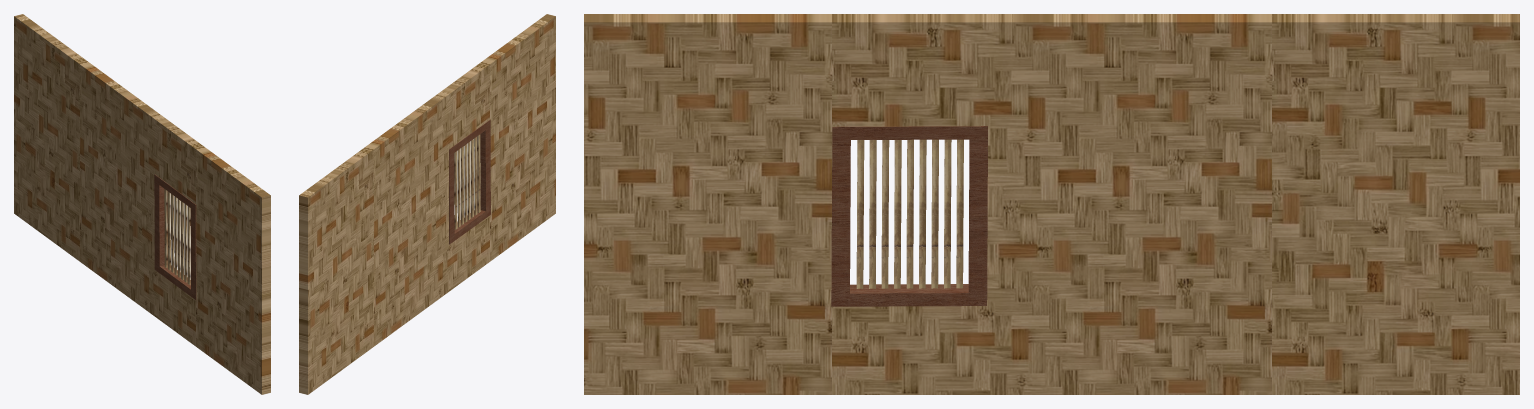
The model's file is R4_Kiri.fbx.
3 views of the same model, side by side, from view 1: azimuth 30°, elevation 25°; view 2: azimuth 150°, elevation 25°; view 3: azimuth 270°, elevation 25° (orthographic). The views are drawn at different scales.
Visible parts, largest first — view 1: T_Kiri_R4; view 2: T_Kiri_R4; view 3: T_Kiri_R4.
Boxes of the visible parts, bbox=[...] form: T_Kiri_R4: bbox=[14, 14, 270, 394]; T_Kiri_R4: bbox=[299, 14, 555, 394]; T_Kiri_R4: bbox=[584, 14, 1519, 394].
Bounding box in the file's own units: 0.3293 × 6.32 × 14.37.
Materials: 3 (3 with a texture image).
